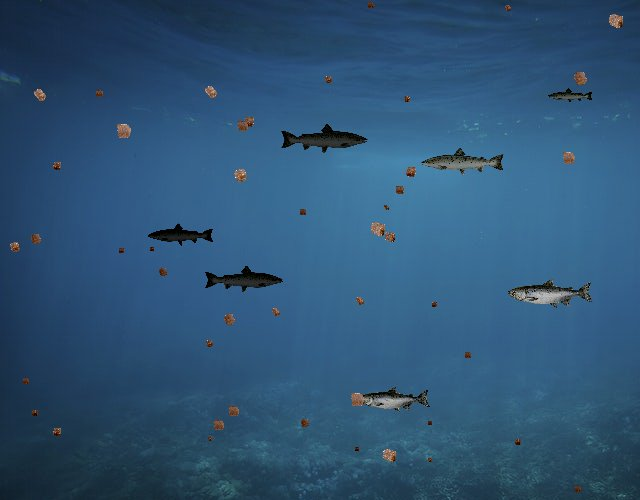Fish: (279, 123, 369, 155), (420, 146, 506, 177), (508, 278, 594, 309), (203, 264, 284, 293), (359, 387, 432, 413), (147, 223, 215, 247), (548, 87, 595, 104)
Pellet: (108, 116, 138, 146), (3, 236, 26, 258), (238, 111, 260, 133), (350, 292, 369, 311), (391, 181, 408, 199), (510, 435, 524, 449), (363, 0, 378, 12), (428, 298, 441, 311), (115, 244, 127, 256), (204, 434, 214, 444)
